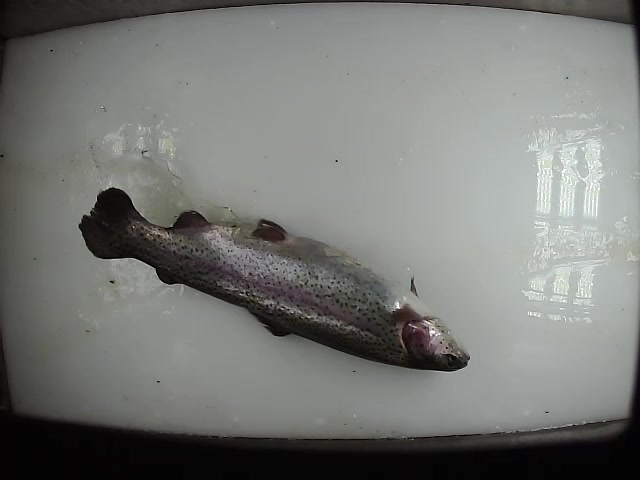fish: (77, 187, 473, 373)
